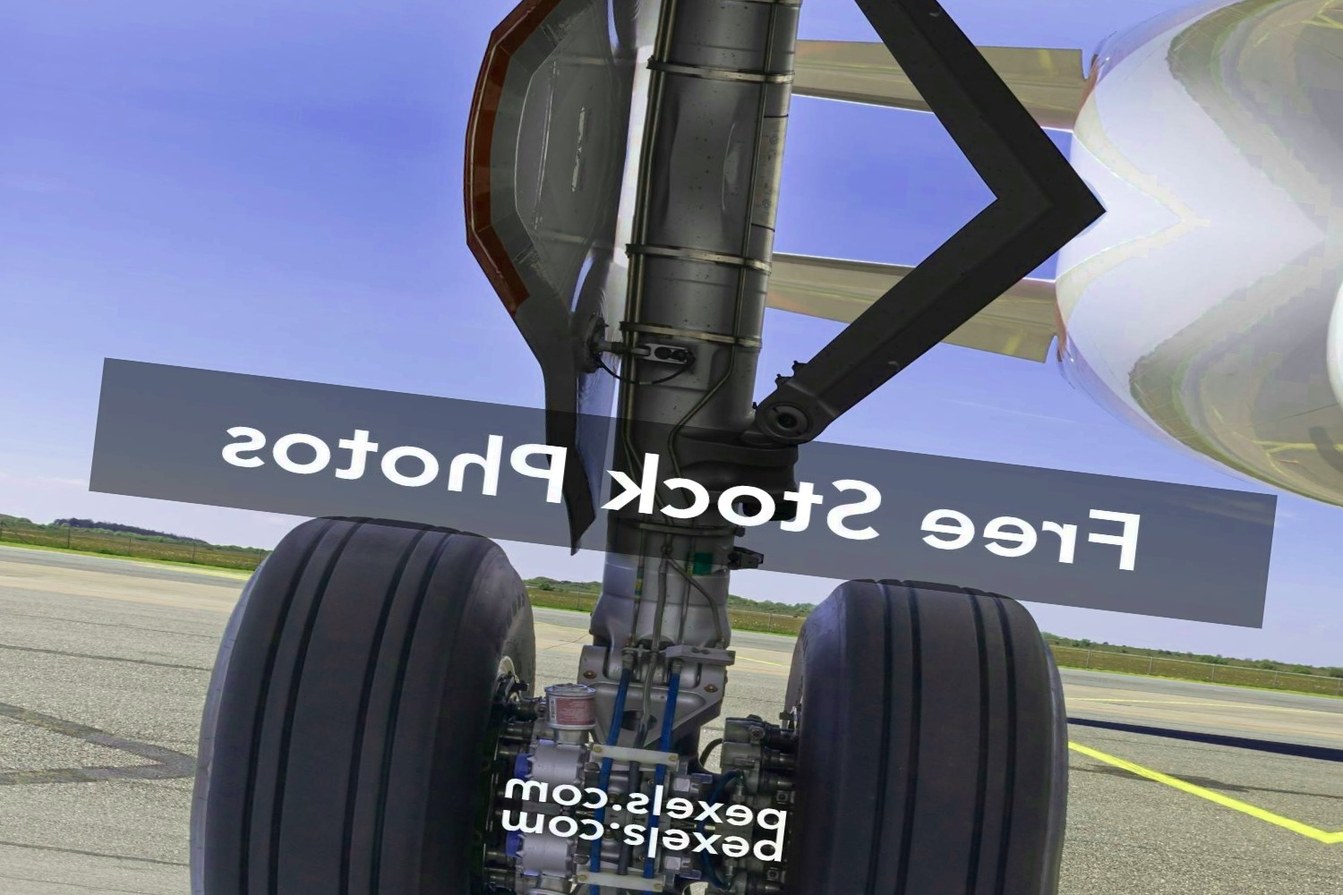wheel: (196, 501, 545, 801), (771, 568, 1097, 868), (164, 772, 513, 895)
